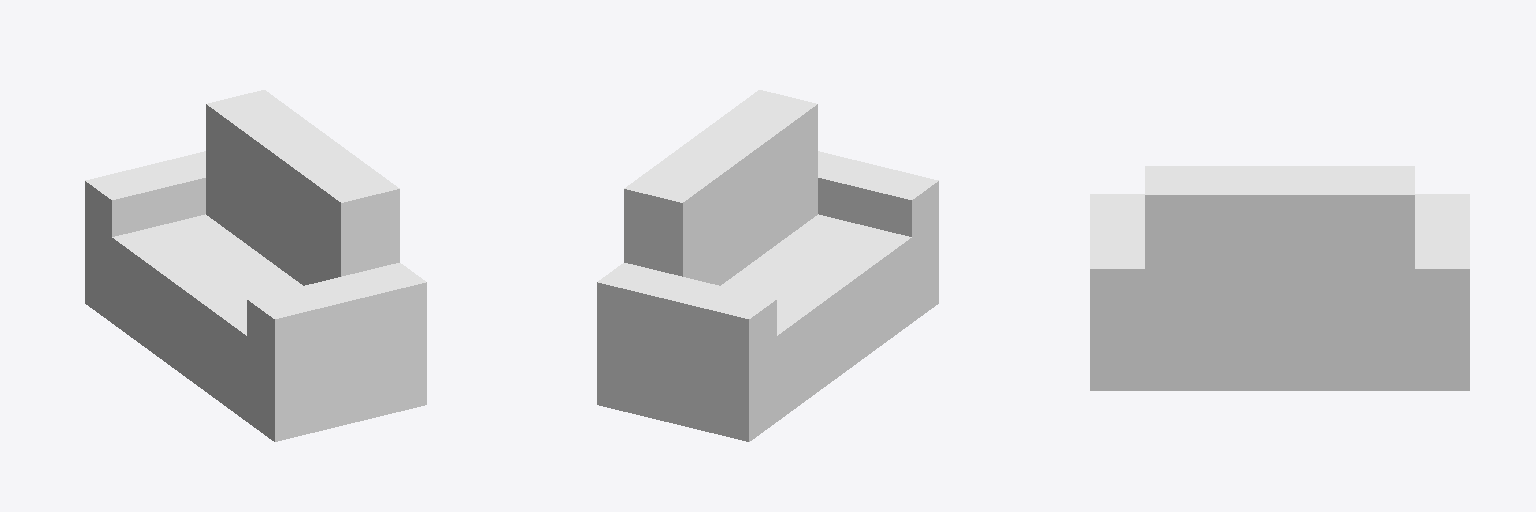
File: classic-couch.obj
3 renders of one model, left to right at view 1: azimuth 30°, elevation 25°; view 2: azimuth 150°, elevation 25°; view 3: azimuth 270°, elevation 25°, orthographic.
Parts seen in each view (by area): view 1: classic:couch; view 2: classic:couch; view 3: classic:couch.
Part boxes in pixels (left/top/right/bottom): classic:couch: left=85, top=90, right=426, bottom=441; classic:couch: left=597, top=90, right=938, bottom=441; classic:couch: left=1090, top=166, right=1469, bottom=390.
Size of the model in its own units: 13 by 16 by 28.